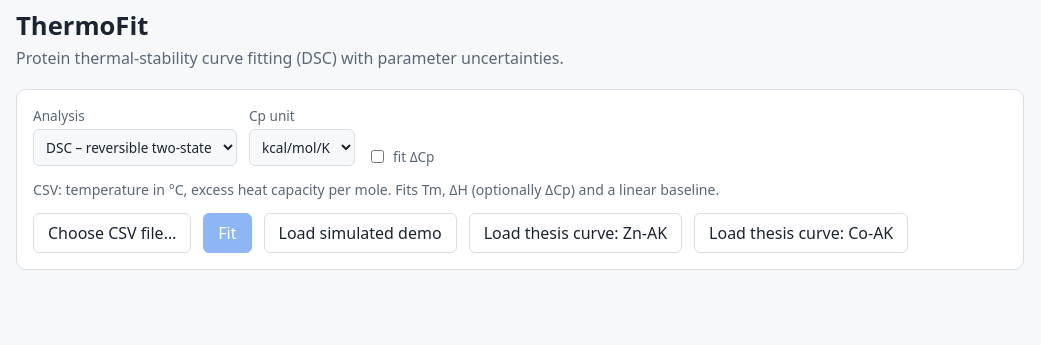
Scenario: App › shows a readable error when the backend is not reachable
Click the button "Load simulated demo" at (360, 233), box [264,213,457,253]
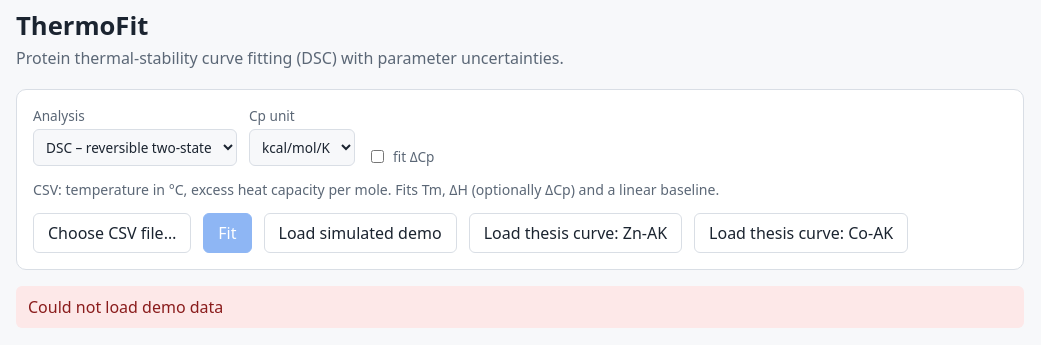
Expected: the message reads "Could not load demo data", [28,296,223,318]
